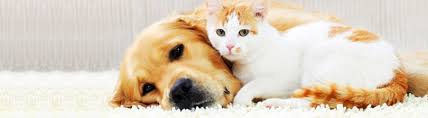cat: (202, 1, 272, 62)
dog: (104, 14, 244, 118)
